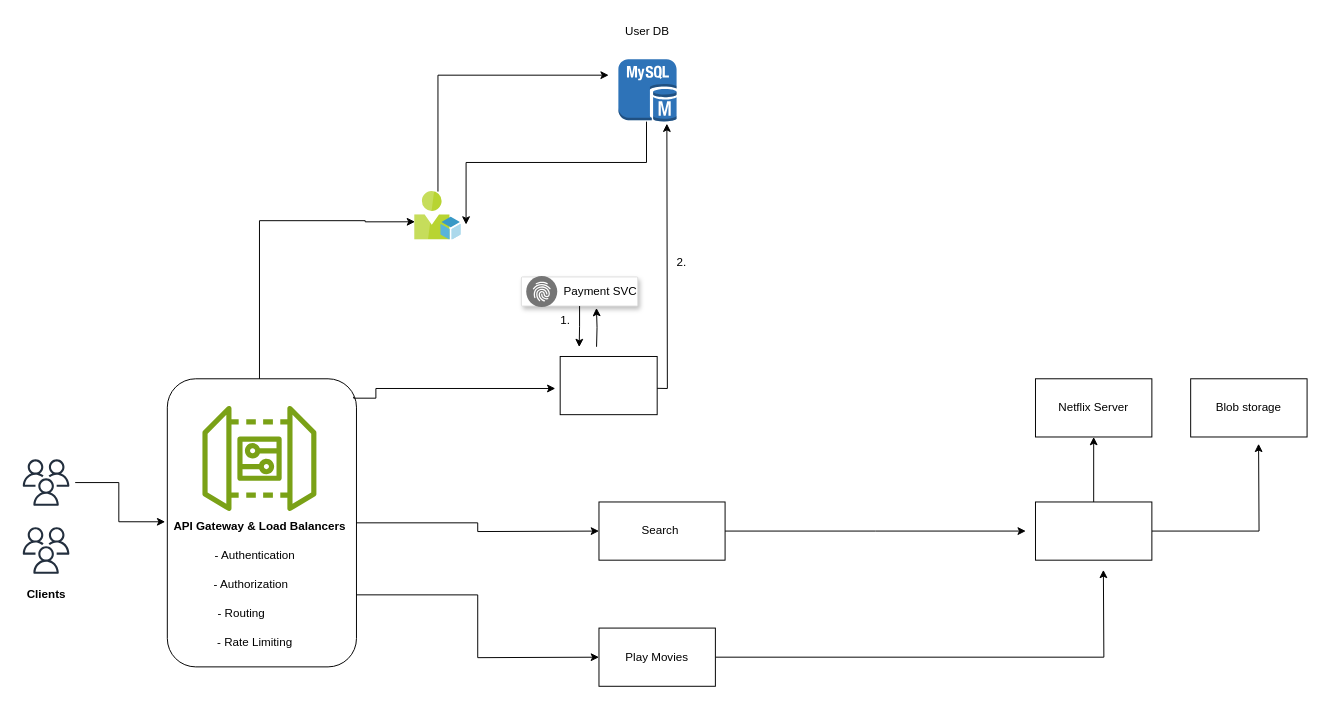
This 1324x703 diagram has some shape labels left out. The shapes that lost their labels are listed below. From the top down, each one's centre as x and y in pixels, then its label:
At (x=608, y=385): "Subscribe".
At (x=1093, y=530): "Movie DB".
